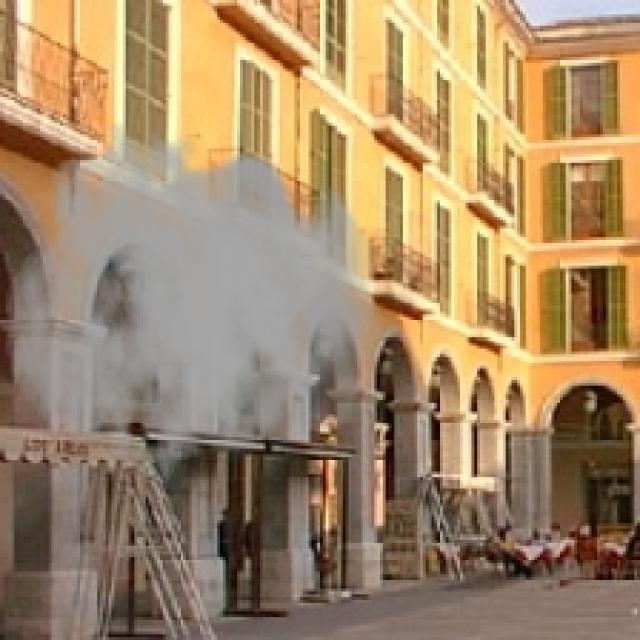Smoke: (3, 120, 383, 503)
